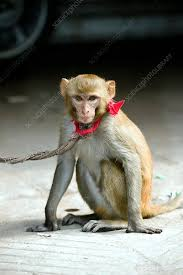monkey: (45, 74, 162, 233)
